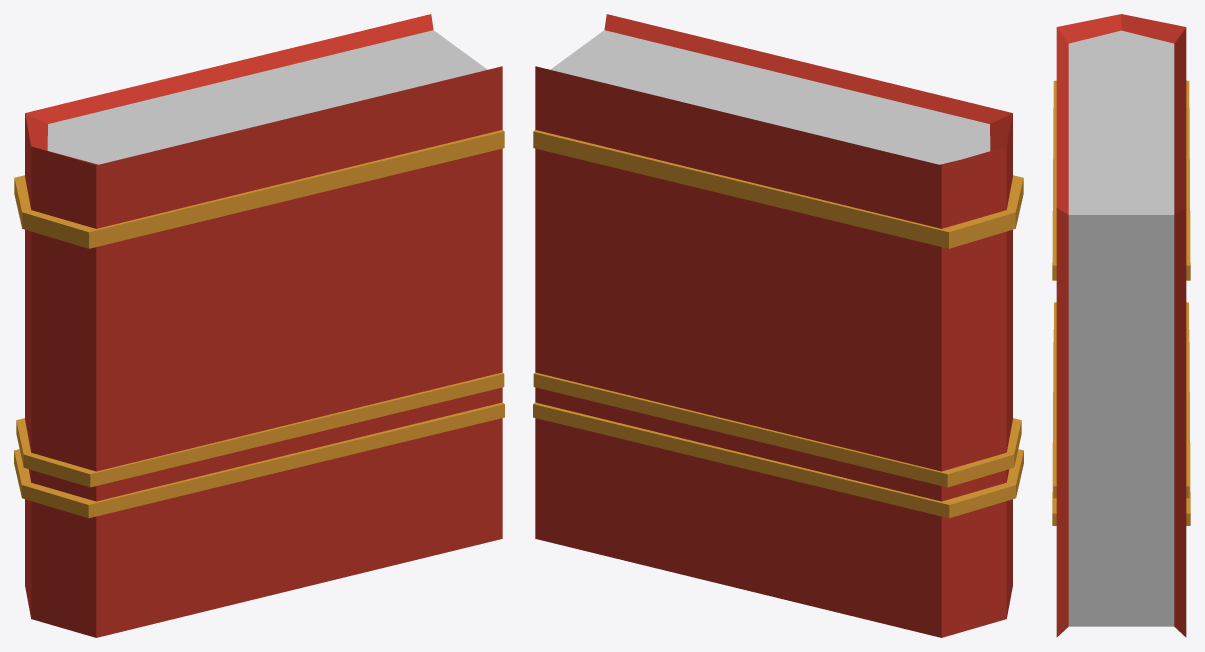
Rendered from book2.fbx.
3 views of the same model, side by side, from view 1: azimuth 30°, elevation 25°; view 2: azimuth 150°, elevation 25°; view 3: azimuth 270°, elevation 25° (orthographic). The views are drawn at different scales.
Parts seen in each view (by area): view 1: book2; view 2: book2; view 3: book2.
Part boxes in pixels (x1,y1,x2,y2): book2: (14,14,504,637); book2: (533,14,1023,637); book2: (1052,14,1190,637).
Bounding box in the file's own units: 28.63 × 29.06 × 8.46.
